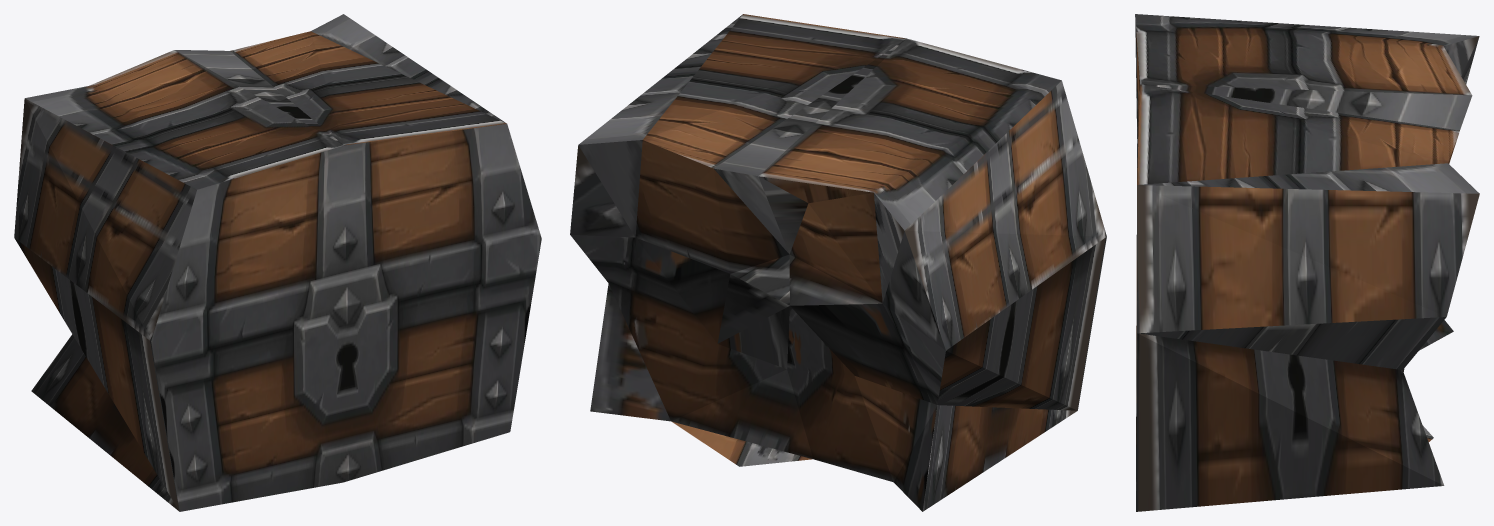
The model's file is SM_Dungeon_Chest_A_LOD3.glb.
The picture shows the model from 3 angles, left to right: view 1: azimuth 30°, elevation 25°; view 2: azimuth 150°, elevation 25°; view 3: azimuth 270°, elevation 25°; orthographic projection. The views are drawn at different scales.
Parts seen in each view (by area): view 1: SM_Dungeon_Chest_A_LOD3; view 2: SM_Dungeon_Chest_A_LOD3; view 3: SM_Dungeon_Chest_A_LOD3.
Boxes of the visible parts, <box> form: SM_Dungeon_Chest_A_LOD3: <box>14,14,541,511</box>; SM_Dungeon_Chest_A_LOD3: <box>570,14,1106,511</box>; SM_Dungeon_Chest_A_LOD3: <box>1135,14,1479,511</box>.
Size of the model in its own units: 0.9849 by 0.8067 by 0.7132.
Materials: 1 (1 with a texture image).
